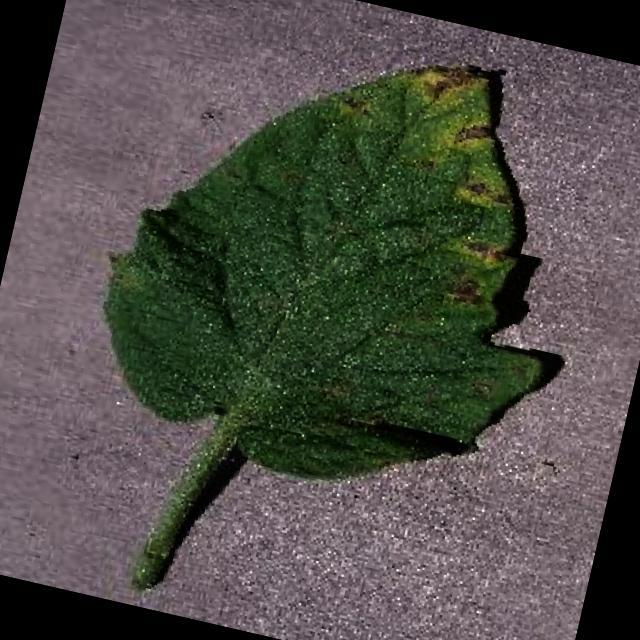Tomato Septoria spot leaf: (72, 0, 605, 531)
